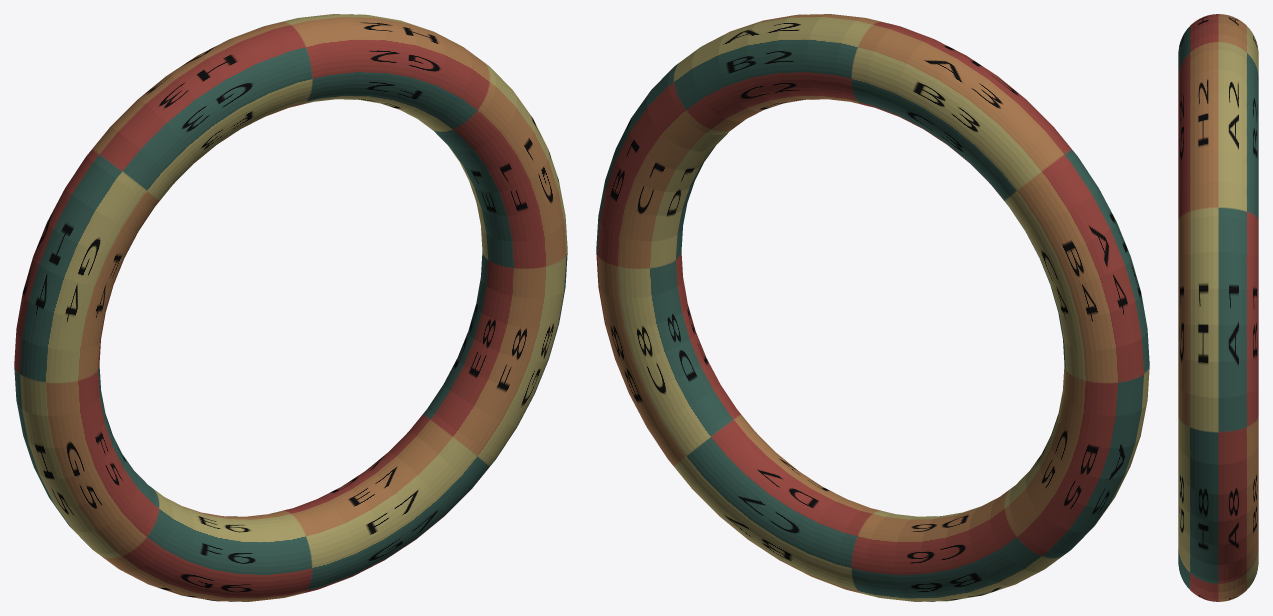
The model's file is texture_torus_R4_r0.glb.
3 renders of one model, left to right at view 1: azimuth 30°, elevation 25°; view 2: azimuth 150°, elevation 25°; view 3: azimuth 270°, elevation 25°, orthographic. The views are drawn at different scales.
Parts seen in each view (by area): view 1: world; view 2: world; view 3: world.
Boxes of the visible parts, <box> form: world: <box>14,14,567,601</box>; world: <box>596,14,1149,601</box>; world: <box>1178,14,1258,601</box>.
Size of the model in its own units: 14.67 by 14.64 by 2.
Materials: 1 (1 with a texture image).
